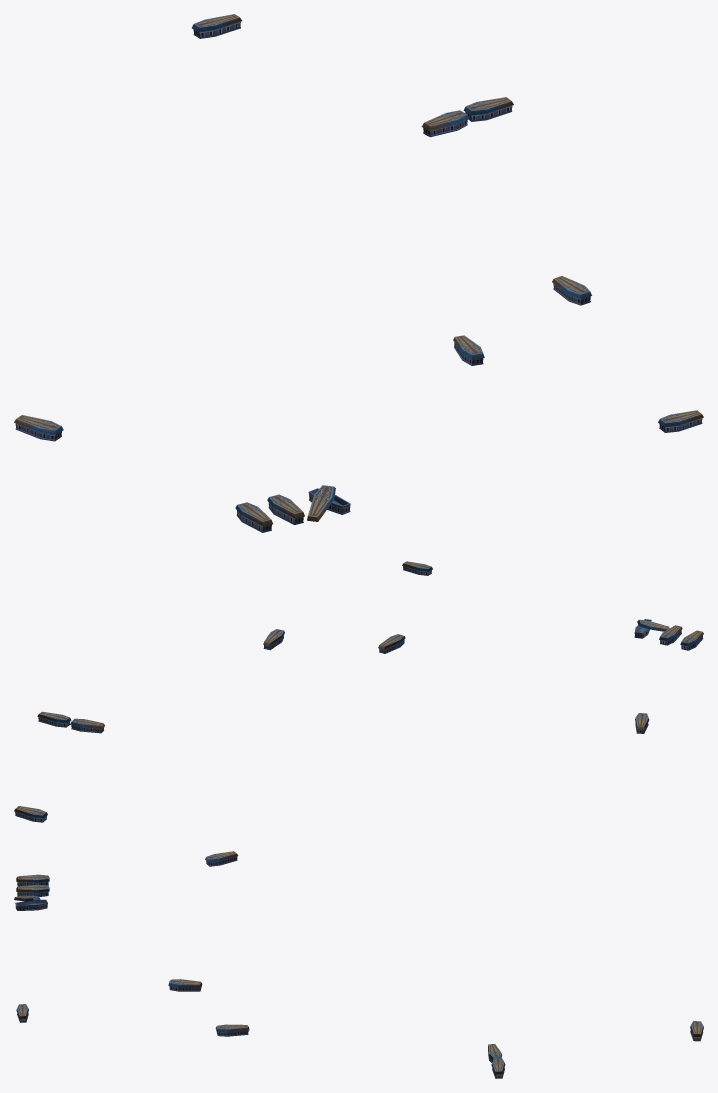
Rendered from Area_08_4.FBX.
3 views of the same model, one above another, from view 1: azimuth 30°, elevation 25°; view 2: azimuth 150°, elevation 25°; view 3: azimuth 270°, elevation 25° (orthographic). The views are drawn at different scales.
Parts seen in each view (by area): view 1: Area_08_4; view 2: Area_08_4; view 3: Area_08_4.
Part boxes in pixels (<box>): Area_08_4: <box>14,14,703,532</box>; Area_08_4: <box>14,561,703,822</box>; Area_08_4: <box>14,851,703,1078</box>.
Size of the model in its own units: 5923 by 148 by 7800.
